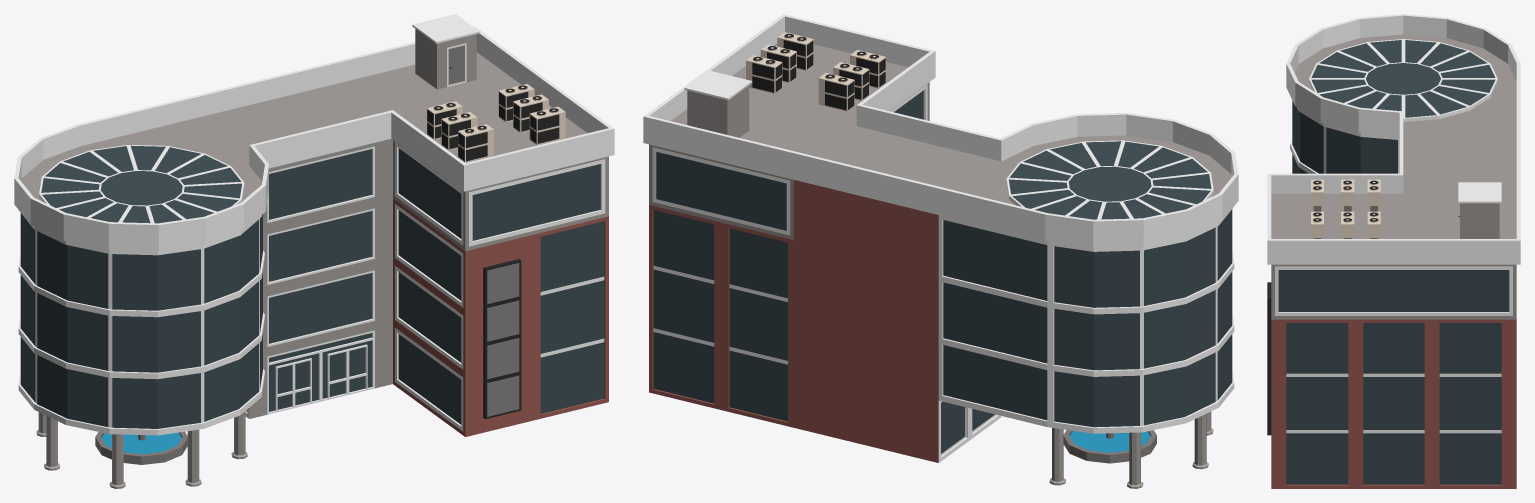
File: buildings_building-mall.fbx
The picture shows the model from 3 angles, left to right: view 1: azimuth 30°, elevation 25°; view 2: azimuth 150°, elevation 25°; view 3: azimuth 270°, elevation 25°; orthographic projection. The views are drawn at different scales.
Visible parts, largest first — view 1: buildings_building_mall; view 2: buildings_building_mall; view 3: buildings_building_mall.
Part boxes in pixels (bbox=[...]): buildings_building_mall: bbox=[14, 14, 614, 488]; buildings_building_mall: bbox=[643, 14, 1238, 488]; buildings_building_mall: bbox=[1267, 14, 1520, 488].
Size of the model in its own units: 200 by 113 by 94.37.
